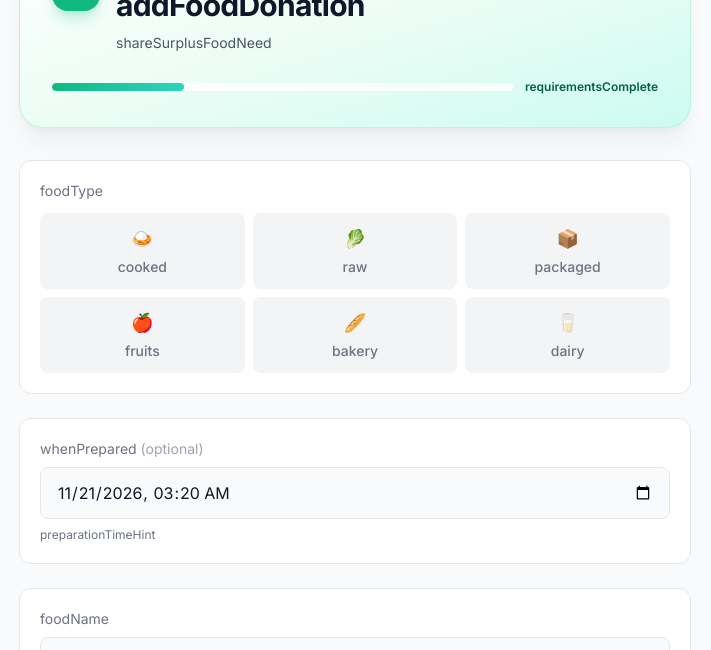
Test case: AddFood - Food Donation Form › allows publishing without a preparation time and uses the current time
The width and height of the screenshot is (711, 650).
Later steps or results of the test are not shown.
Click the button "🥬 raw" at (355,251), box [253, 213, 457, 289]
(page scrolled)
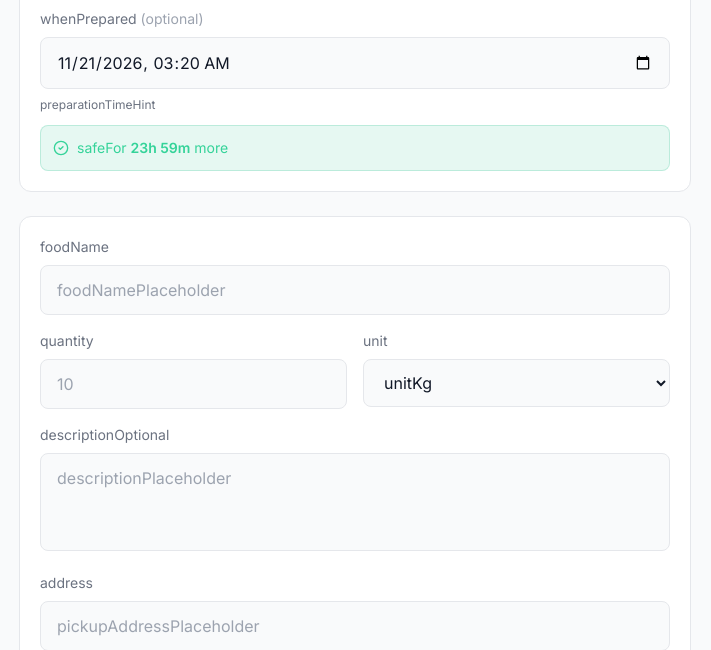
Type "Fresh vegetables" into the field named "foodName" at (355,290), box [40, 265, 670, 315]
Clear the field named "preparationTime" below "whenPrepared" at (355,63), box [40, 37, 670, 89]
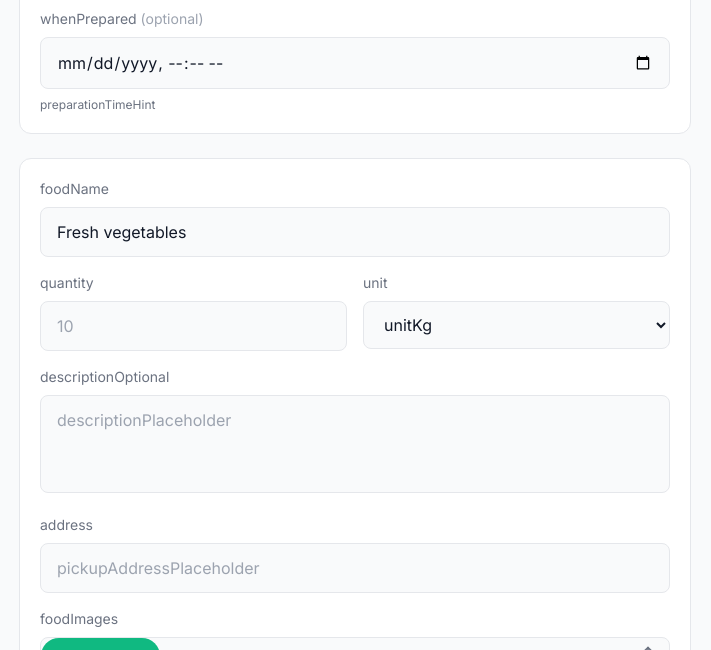
Type "4" into the number field named "quantity" at (194,326), box [40, 301, 347, 351]
(page scrolled)
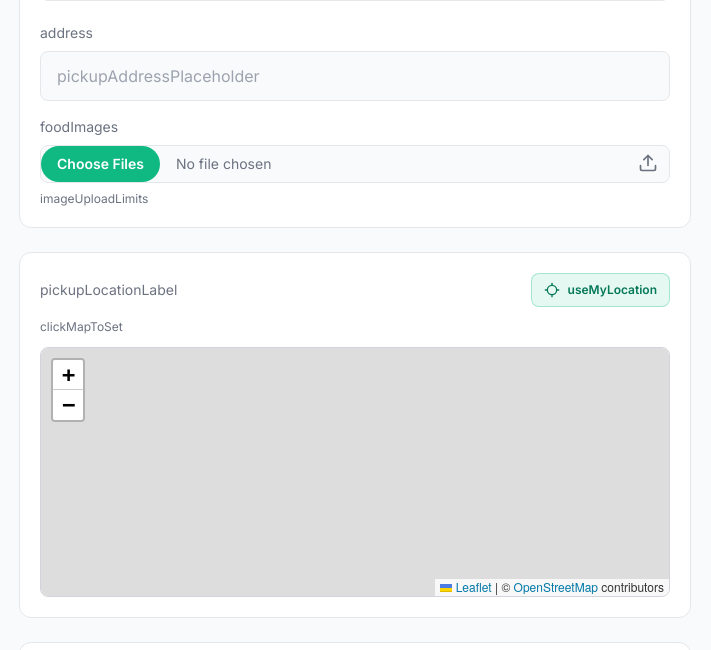
Click the button "useMyLocation" at (600,290), box [531, 273, 670, 307]
(page scrolled)
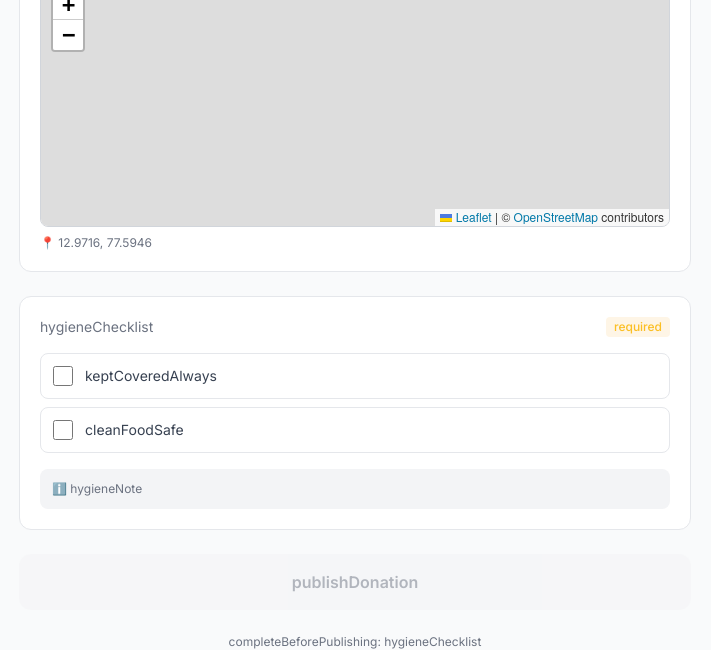
Click the checkbox labelled "keptCoveredAlways" at (63,376), box [53, 366, 73, 386]
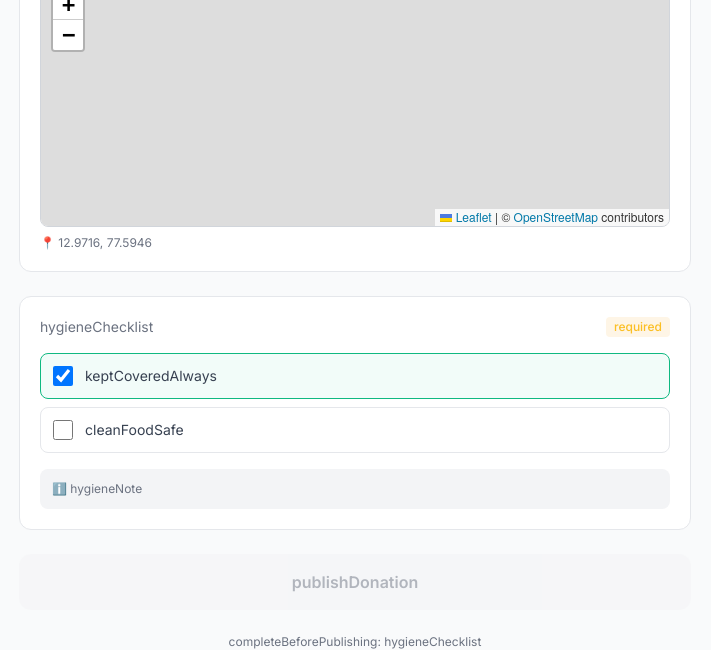
Click the checkbox labelled "cleanFoodSafe" at (63,430), box [53, 420, 73, 440]
(page scrolled)
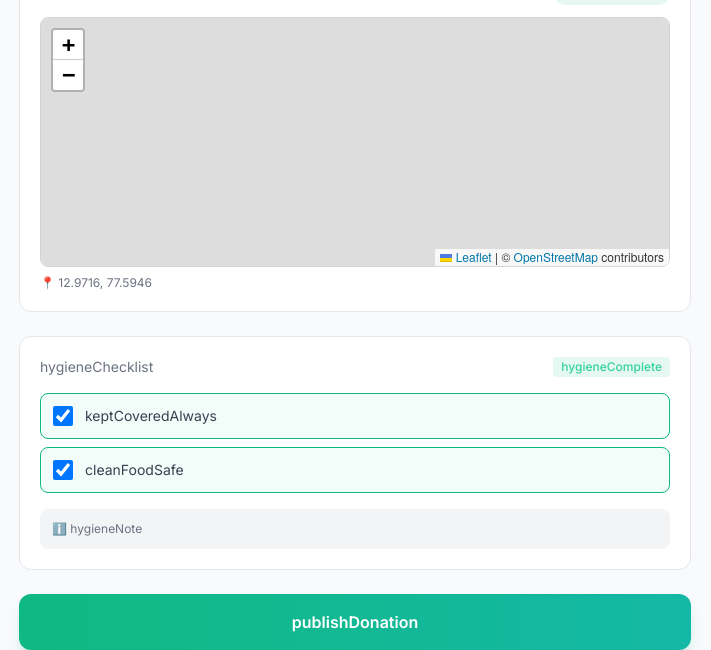
Check: the button "publishDonation" is enabled, box [19, 594, 691, 649]
